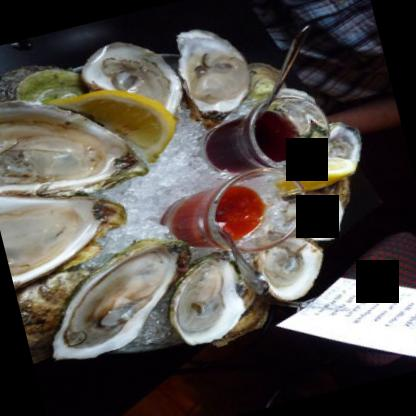oyster: (0, 70, 156, 219), (32, 232, 203, 364), (0, 166, 125, 284), (74, 29, 188, 131), (166, 13, 258, 119), (154, 252, 250, 349), (244, 231, 326, 305), (280, 182, 352, 249)
